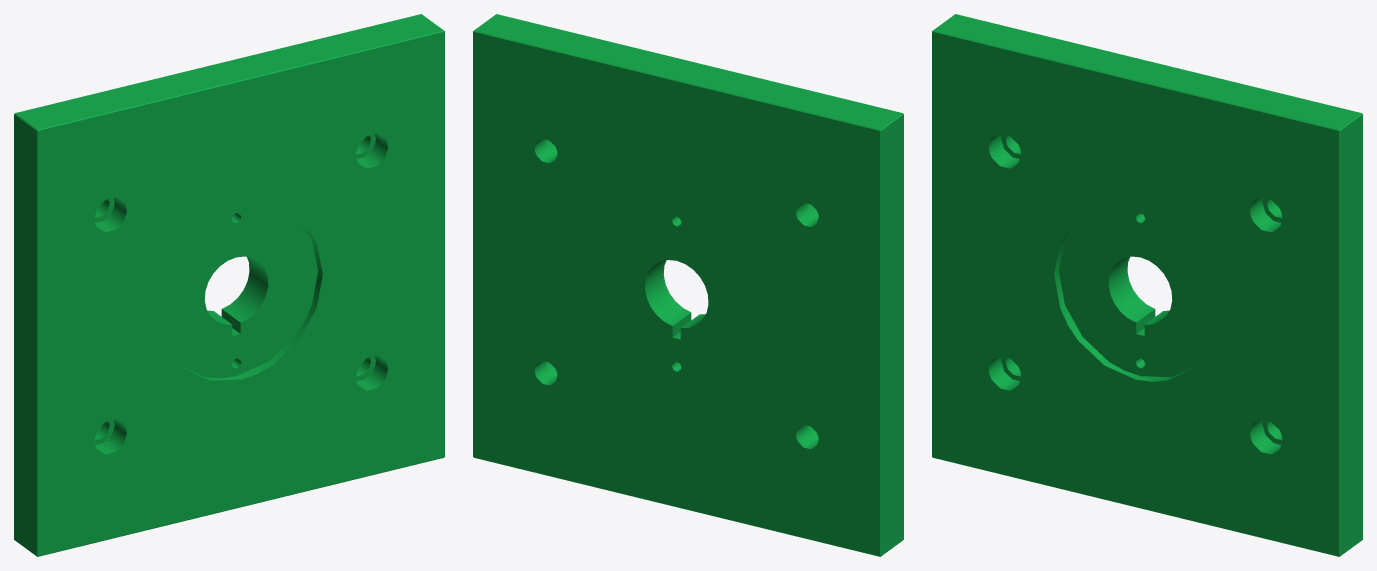
File: 01_pelat_atas.obj
3 views of the same model, side by side, from view 1: azimuth 30°, elevation 25°; view 2: azimuth 150°, elevation 25°; view 3: azimuth 330°, elevation 25° (orthographic).
Visible parts, largest first — view 1: 1; view 2: 1; view 3: 1.
Part boxes in pixels (box(x1,y1,x2,y2)): 1: box(14, 14, 444, 556); 1: box(473, 14, 903, 556); 1: box(932, 14, 1362, 556).
Size of the model in its own units: 250 by 250 by 25.
